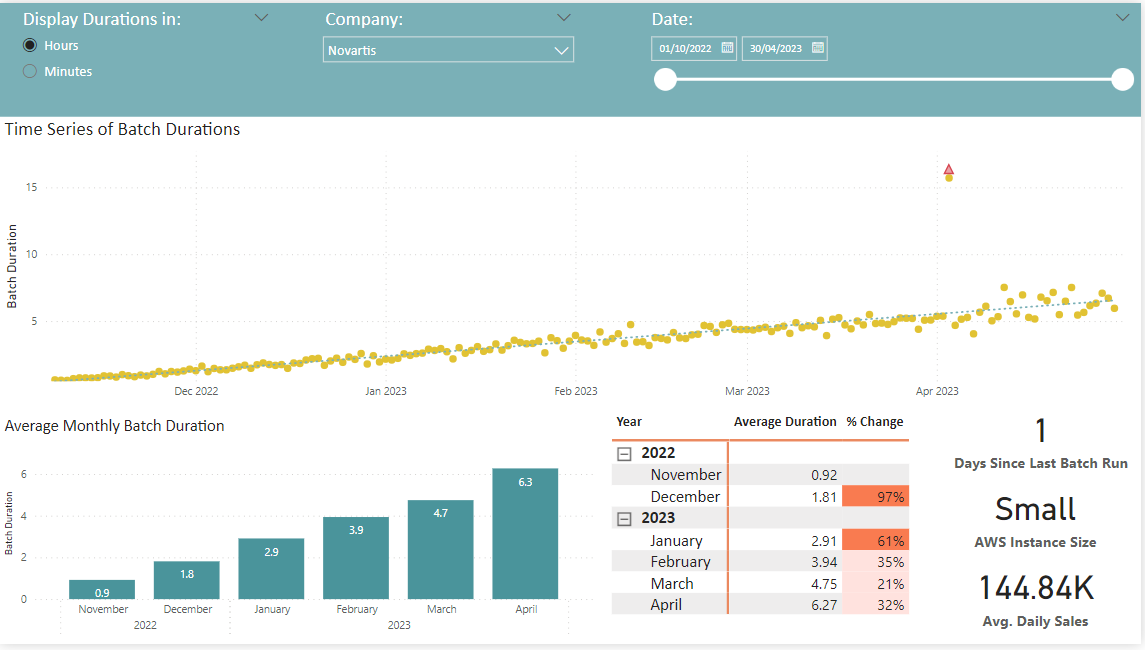

This screenshot's page, from the dashboard's own definition file:
{"tool":"powerbi","page":{"name":"Client Investigation","canvas":[1280,720],"ordinal":0},"visuals":[{"type":"shape","box":[0,0,1280.3,127.6],"z":0},{"type":"lineChart","title":"Time Series of Batch Durations","fields":{"Category":["03_final.Batch_Date"],"Y":["03_final.Calculation"]},"box":[0,127.1,1280,325.7],"z":1000},{"type":"slicer","fields":{"Values":["03_final.Company"]},"box":[351.3,0,301.9,81],"z":2000},{"type":"slicer","fields":{"Values":["Slicer Table.Value"]},"box":[12.3,0,301.9,104.3],"z":3000},{"type":"slicer","fields":{"Values":["03_final.Batch_Date"]},"box":[717.7,0,562.6,172.9],"z":4000},{"type":"clusteredColumnChart","title":"Average Monthly Batch Duration","fields":{"Category":["03_final.Batch_Date.Variation.Date Hierarchy.Year","03_final.Batch_Date.Variation.Date Hierarchy.Month"],"Y":["03_final.Calculationsss"]},"box":[0,462.9,671.4,257.1],"z":5000},{"type":"pivotTable","fields":{"Values":["03_final.Calculation (Average)","03_final.Average of Duration MoM%"],"Rows":["03_final.Batch_Date.Variation.Date Hierarchy.Year","03_final.Batch_Date.Variation.Date Hierarchy.Month"]},"box":[681.4,452.9,347.1,267.1],"z":6000},{"type":"card","title":"AWS Instance Size:","fields":{"Values":["Min(02_intermediate.AWS_instance)"]},"box":[1055.7,531.4,211.4,87.1],"z":7000},{"type":"card","fields":{"Values":["Avg(02_intermediate.daily_sales)"]},"box":[1055.7,618.6,211.4,90],"z":8000},{"type":"card","fields":{"Values":["03_final.Days Since Last Batch Run"]},"box":[1055.7,441.4,224.3,90],"z":8001}]}

Visuals, with their boxes in screenshot pixels (x1, y1, x2, y2), scaled from the page's 1280x720 canvas onto the 1145x650 screenshot:
shape: [0,0,1144,115]
"Time Series of Batch Durations" lineChart: [0,115,1144,409]
slicer - 03_final.Company: [314,0,584,73]
slicer - Slicer Table.Value: [11,0,281,94]
slicer - 03_final.Batch_Date: [642,0,1144,156]
"Average Monthly Batch Duration" clusteredColumnChart: [0,418,601,649]
pivotTable - 03_final.Calculation (Average) x 03_final.Average of Duration MoM%: [610,409,920,649]
"AWS Instance Size:" card: [944,480,1133,558]
card - Avg(02_intermediate.daily_sales): [944,558,1133,640]
card - 03_final.Days Since Last Batch Run: [944,398,1144,480]
